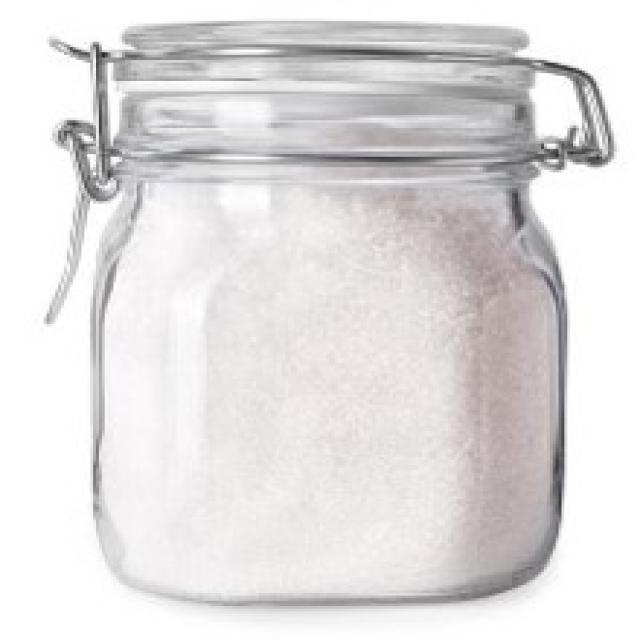electronic: (49, 24, 614, 613)
